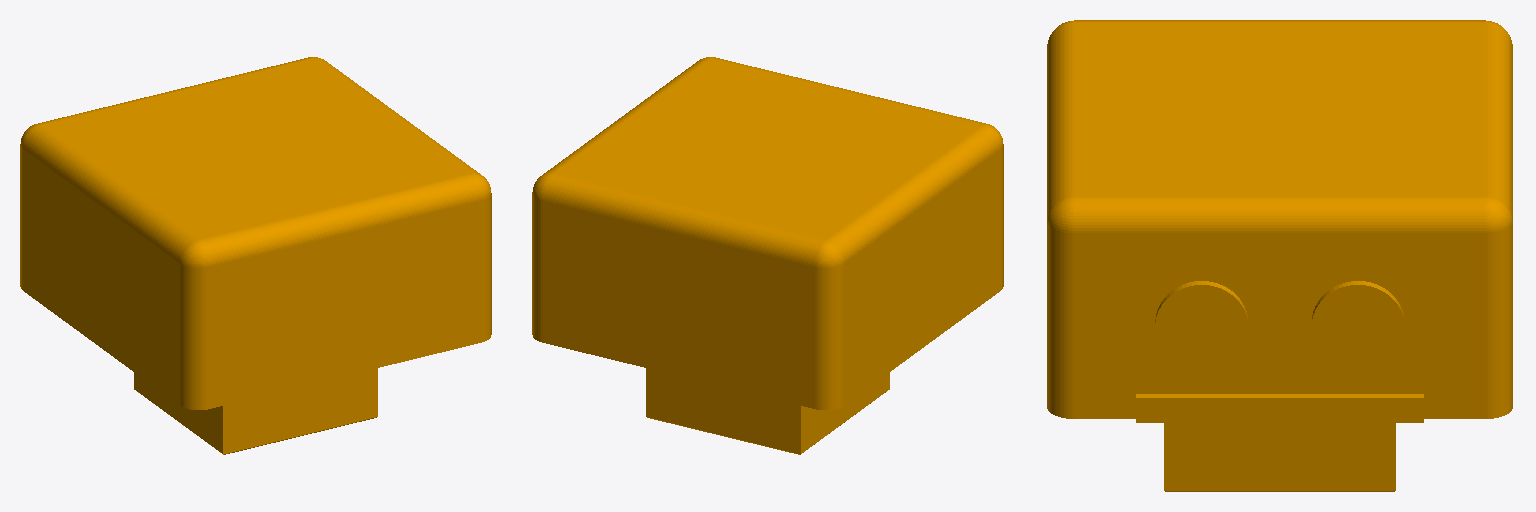
URDF robot description (holi_top):
<?xml version="1.0"?>
<robot name="holi_top">

  <link name="holi_top">
        
    <visual>
      <origin xyz="0.0 0.0 0.0" rpy="0.0 0 1.57079632679"/>
      <geometry>
        <mesh filename="package://holi/meshes/visual/holi_top.obj"/>
      </geometry>   
    </visual>

    <!-- head -->
    <collision>
      <origin xyz="0.0 0.0 0.027"/>
      <geometry>
        <box size="0.05 0.05 0.025"/>
      </geometry>    
    </collision>
    <inertial>
      <mass value="0.02"/>
      <friction value="1.0"/>
      <inertia ixx="0.02" ixy="0.0" ixz="0.0" iyy="0.02" iyz="0.0" izz="0.02"/>
    </inertial>

    <!-- head peg -->
    <collision>
      <origin xyz="0.0 0.0 0.00725" rpy="0 0 0"/>
      <geometry>
        <box size="0.025 0.025 0.0145"/>
      </geometry>      
    </collision>
    <inertial>
      <mass value="0.003"/>
      <friction value="1.0"/>
      <inertia ixx="0.003" ixy="0.0" ixz="0.0" iyy="0.003" iyz="0.0" izz="0.003"/>
    </inertial>
   
  </link>

</robot>

--- Facts derived from the render (not from the file) ---
3 views of the same robot in one strip: view 1: azimuth 30°, elevation 25°; view 2: azimuth 150°, elevation 25°; view 3: azimuth 270°, elevation 25° (orthographic).
Model holi_top with 1 links and 0 joints (none), rooted at holi_top, posed all joints at 0.
Visible links, largest first — view 1: holi_top; view 2: holi_top; view 3: holi_top.
Boxes of the visible links, x1,y1,x2,y2 form: holi_top: [20, 57, 491, 454]; holi_top: [532, 57, 1003, 454]; holi_top: [1047, 20, 1512, 491].
Bounding box of the posed robot: 0.051 × 0.05 × 0.0395 m (x, y, z).
Meshes: 1 distinct files referenced, 1 mesh visuals loaded (1 OBJ).